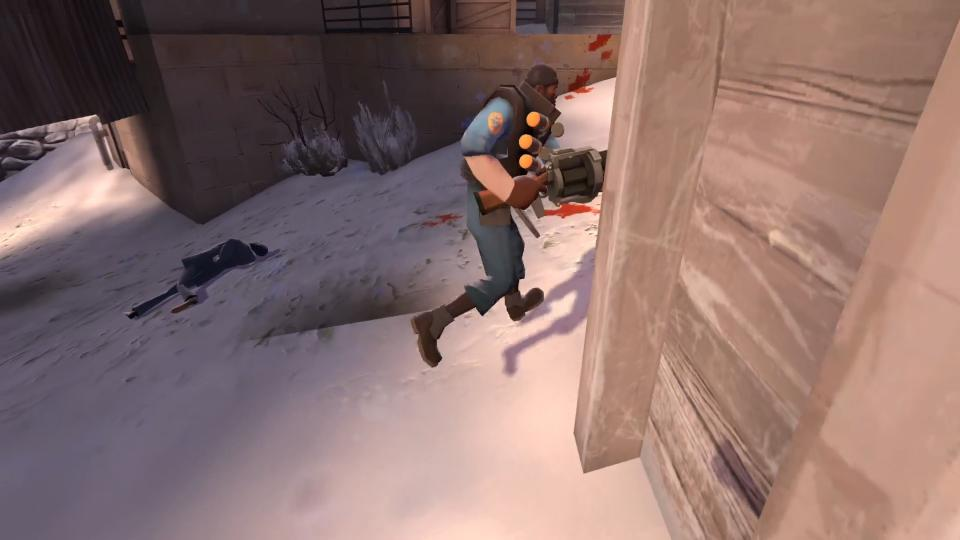Enemy: (412, 61, 608, 366)
